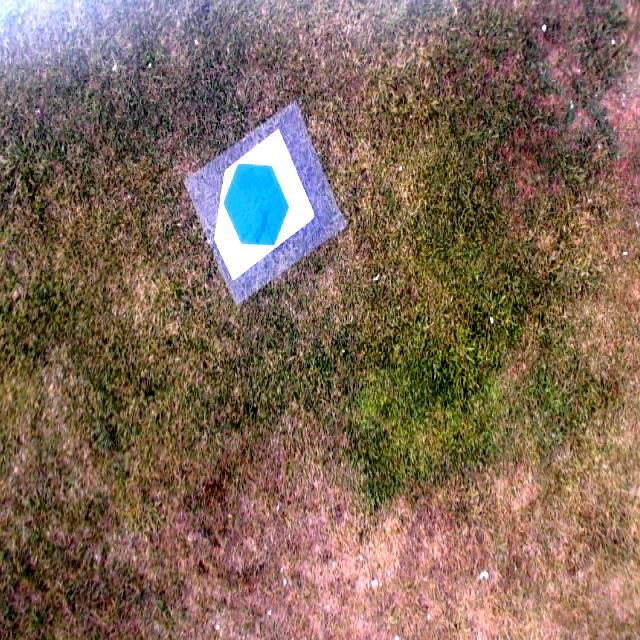blue_hexagon: (223, 162, 290, 246)
